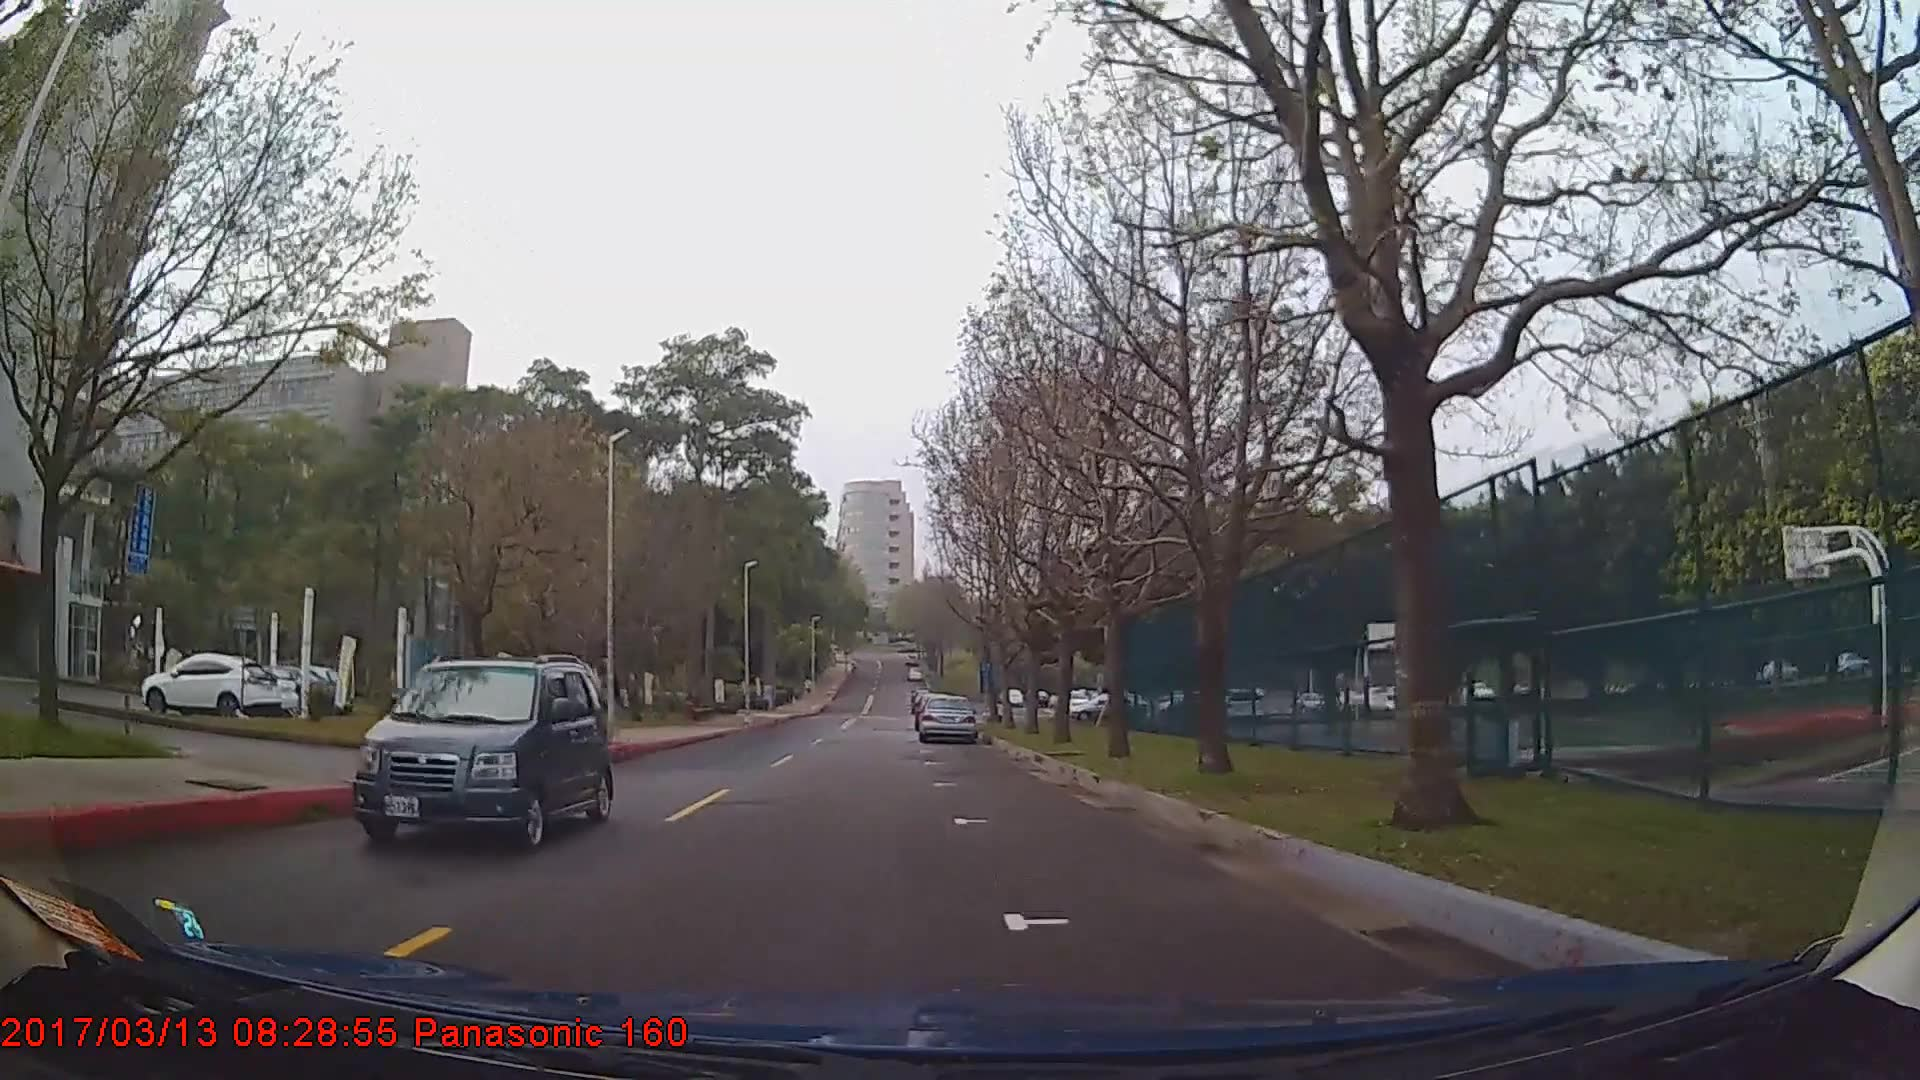vehicle: (348, 653, 615, 855), (138, 650, 278, 716), (916, 690, 978, 742)
